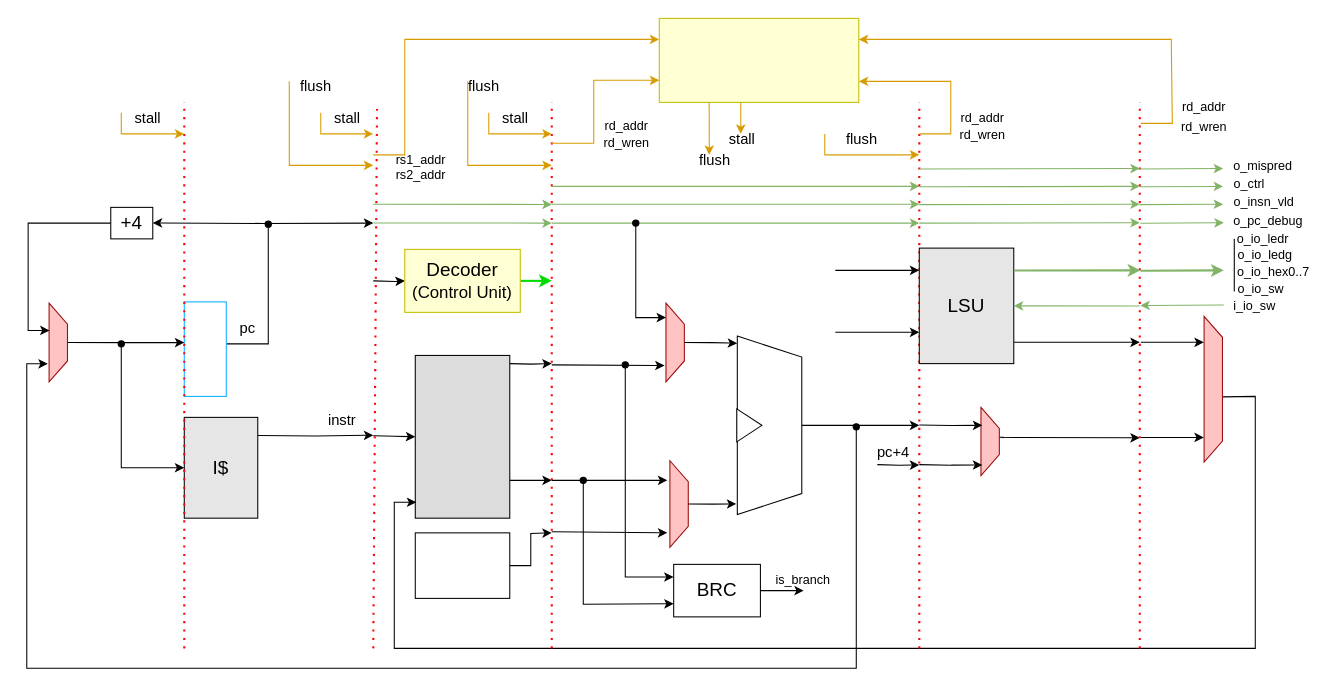
This 1339x696 diagram has some shape labels left out. The shapes that lost their labels are listed below. From the top down, each one's centre as x and y in pixels, then its label:
At point 758,59: "Hazard Detection".
At point 462,436: "Regfile".
At point 462,565: "Imm Gen".
